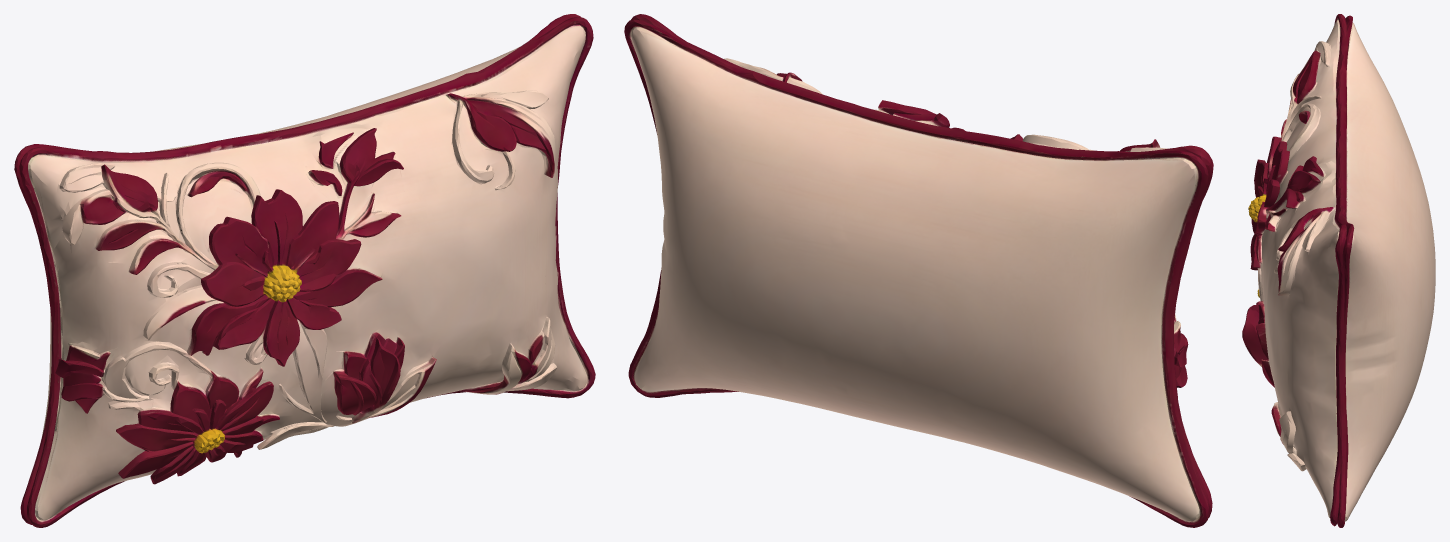
The model's file is pillow.glb.
3 views of the same model, side by side, from view 1: azimuth 30°, elevation 25°; view 2: azimuth 150°, elevation 25°; view 3: azimuth 270°, elevation 25° (orthographic). The views are drawn at different scales.
Visible parts, largest first — view 1: model; view 2: model; view 3: model.
Boxes of the visible parts, bbox=[...] form: model: bbox=[14, 14, 595, 527]; model: bbox=[624, 14, 1213, 527]; model: bbox=[1242, 14, 1435, 527].
Size of the model in its own units: 1.9 by 1.19 by 0.6954.
1 material, 1 textured.
